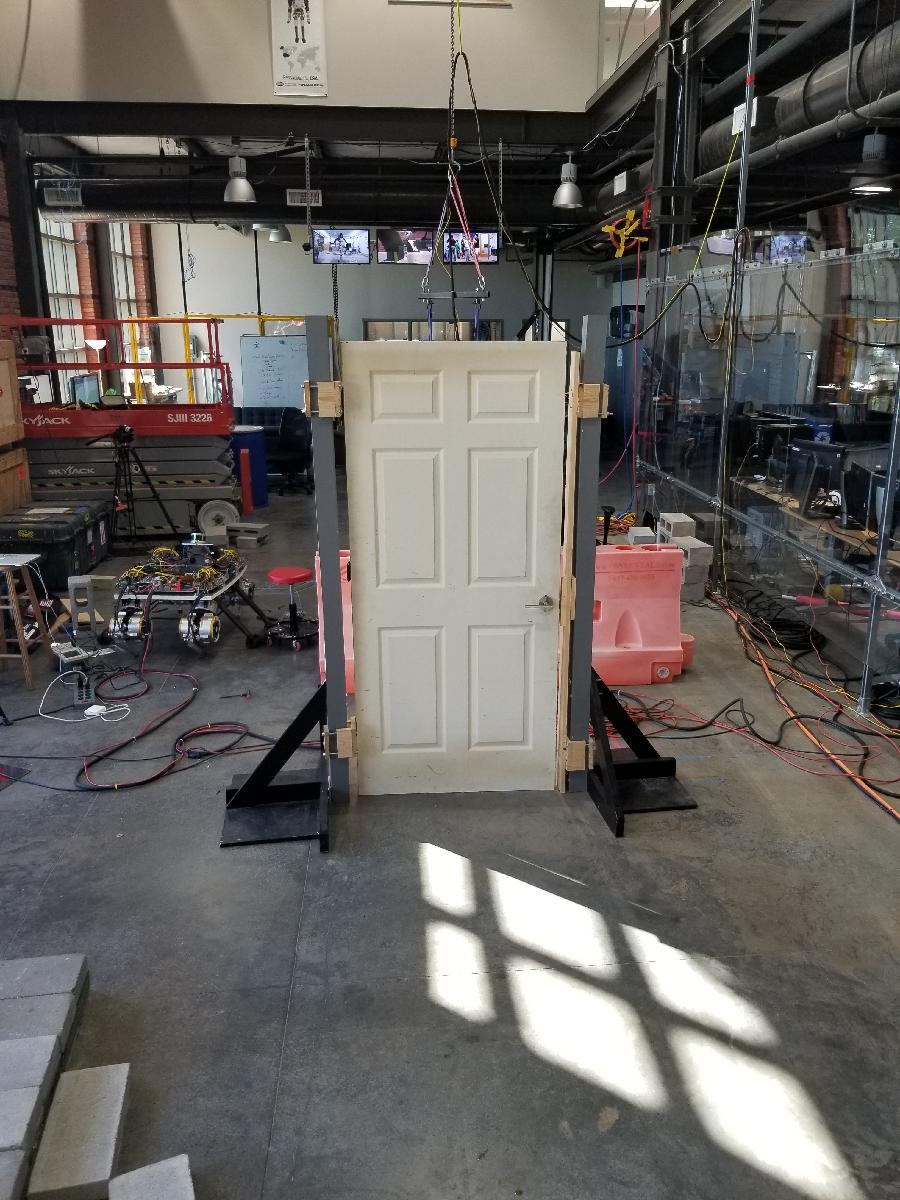door: (337, 338, 568, 804)
doorHandle: (525, 592, 552, 616)
